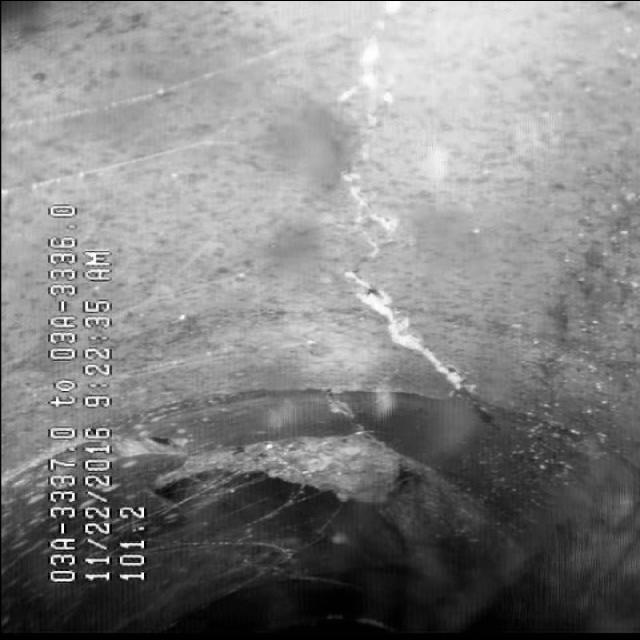Fracture: (302, 41, 446, 354)
